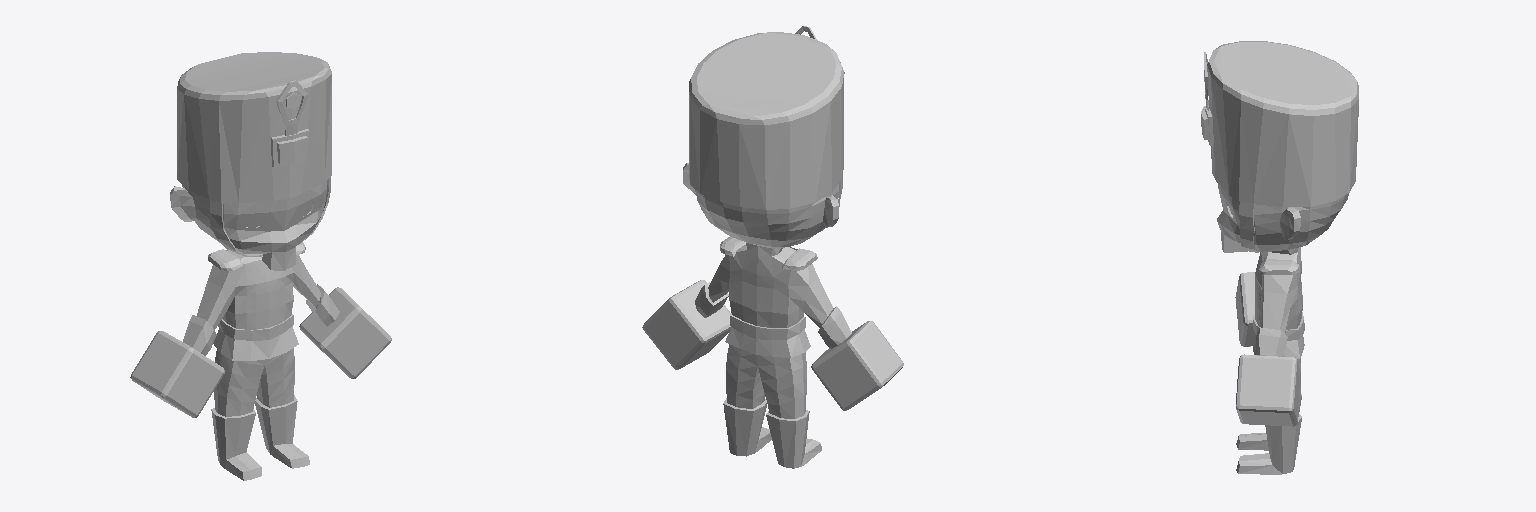
File: Boss_sub_1.obj
The picture shows the model from 3 angles: view 1: azimuth 30°, elevation 25°; view 2: azimuth 150°, elevation 25°; view 3: azimuth 270°, elevation 25°; orthographic projection.
Visible parts, largest first — view 1: CUERPO.001, CASCO.001, ICE.001; view 2: CUERPO.001, CASCO.001, ICE.001; view 3: CASCO.001, CUERPO.001, ICE.001.
Part boxes in pixels (left/top/right/bottom): CUERPO.001: left=170, top=181, right=339, bottom=480; CASCO.001: left=177, top=52, right=331, bottom=256; ICE.001: left=130, top=287, right=391, bottom=417; CUERPO.001: left=683, top=163, right=851, bottom=468; CASCO.001: left=689, top=26, right=844, bottom=232; ICE.001: left=642, top=280, right=903, bottom=410; CASCO.001: left=1201, top=41, right=1358, bottom=252; CUERPO.001: left=1217, top=184, right=1348, bottom=474; ICE.001: left=1235, top=272, right=1300, bottom=426.
Size of the model in its own units: 4.41 by 7.08 by 2.51.